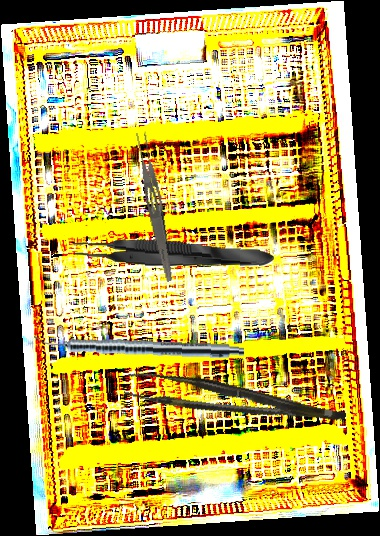Dressing Forceps: (131, 130, 181, 283)
Handpiece: (33, 332, 245, 360)
Tissue Forceps: (123, 359, 347, 448), (71, 234, 276, 274)
